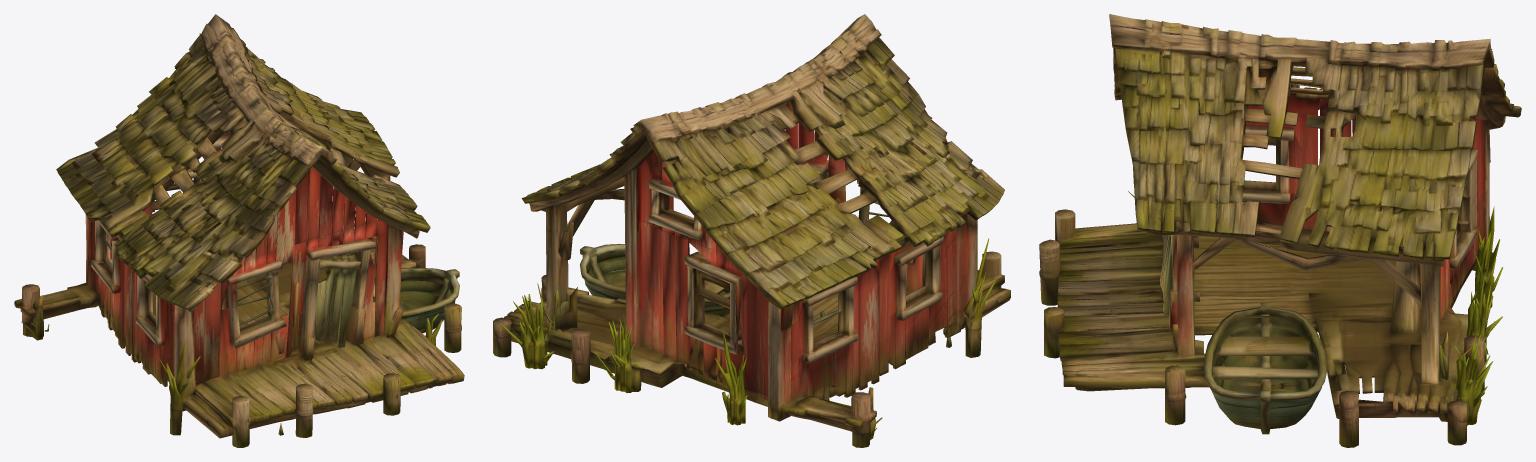
Rendered from ruined_lakeside_boathouse.glb.
3 renders of one model, left to right at view 1: azimuth 30°, elevation 25°; view 2: azimuth 150°, elevation 25°; view 3: azimuth 270°, elevation 25°, orthographic. The views are drawn at different scales.
Visible parts, largest first — view 1: tripo_node_f38d555f-073e-454b-a549-9c7c2e6ca524; view 2: tripo_node_f38d555f-073e-454b-a549-9c7c2e6ca524; view 3: tripo_node_f38d555f-073e-454b-a549-9c7c2e6ca524.
Boxes of the visible parts, box(x1,y1,x2,y2) form: tripo_node_f38d555f-073e-454b-a549-9c7c2e6ca524: box(14, 14, 464, 447); tripo_node_f38d555f-073e-454b-a549-9c7c2e6ca524: box(493, 14, 1010, 447); tripo_node_f38d555f-073e-454b-a549-9c7c2e6ca524: box(1039, 14, 1521, 447).
Bounding box in the file's own units: 0.9796 × 0.7227 × 0.9489.
1 material, 1 textured.
